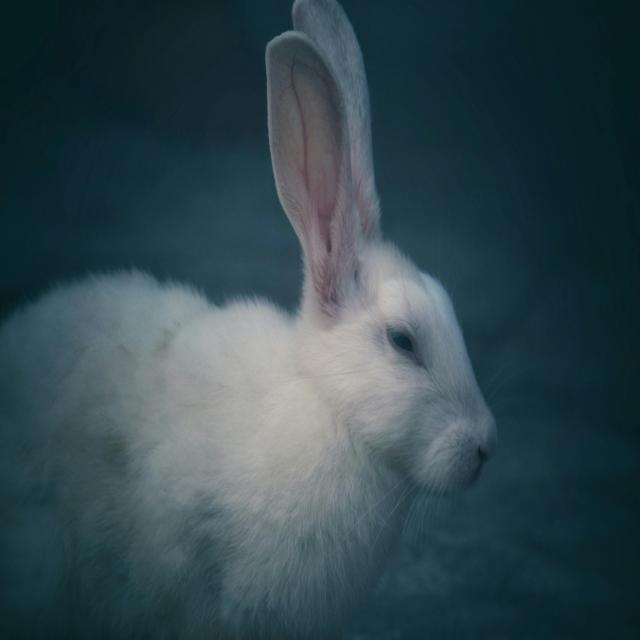Hare: (0, 0, 497, 640)
